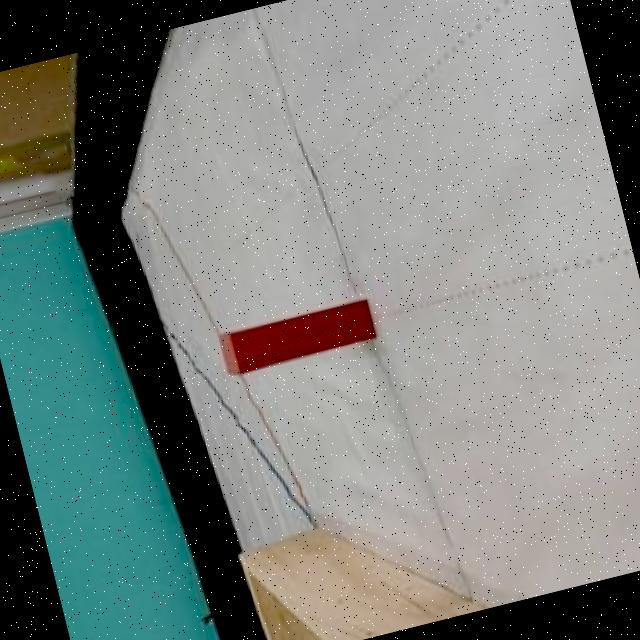redbox: (216, 294, 380, 379)
